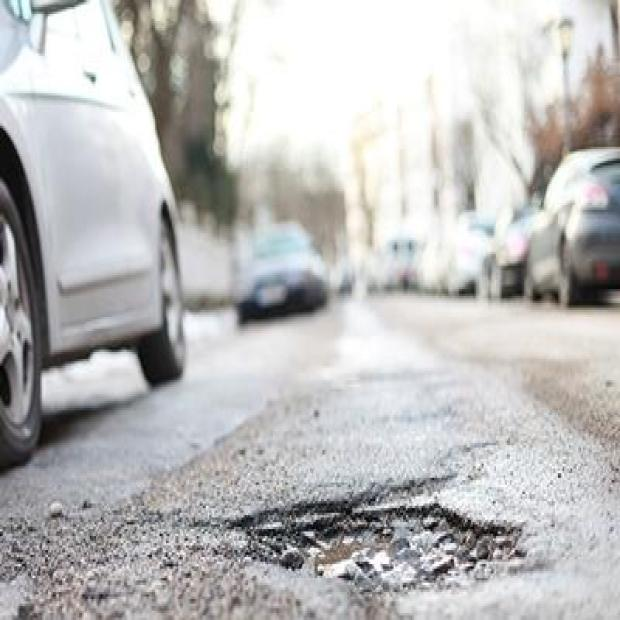lubang: (225, 478, 524, 590)
